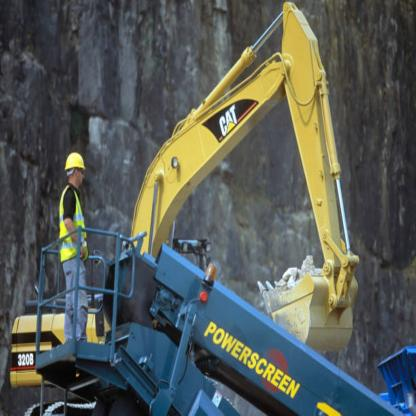excavator: (17, 5, 363, 394)
person: (54, 146, 105, 349)
